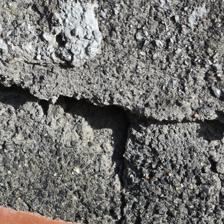Crack: (74, 13, 140, 124), (177, 0, 224, 82)
